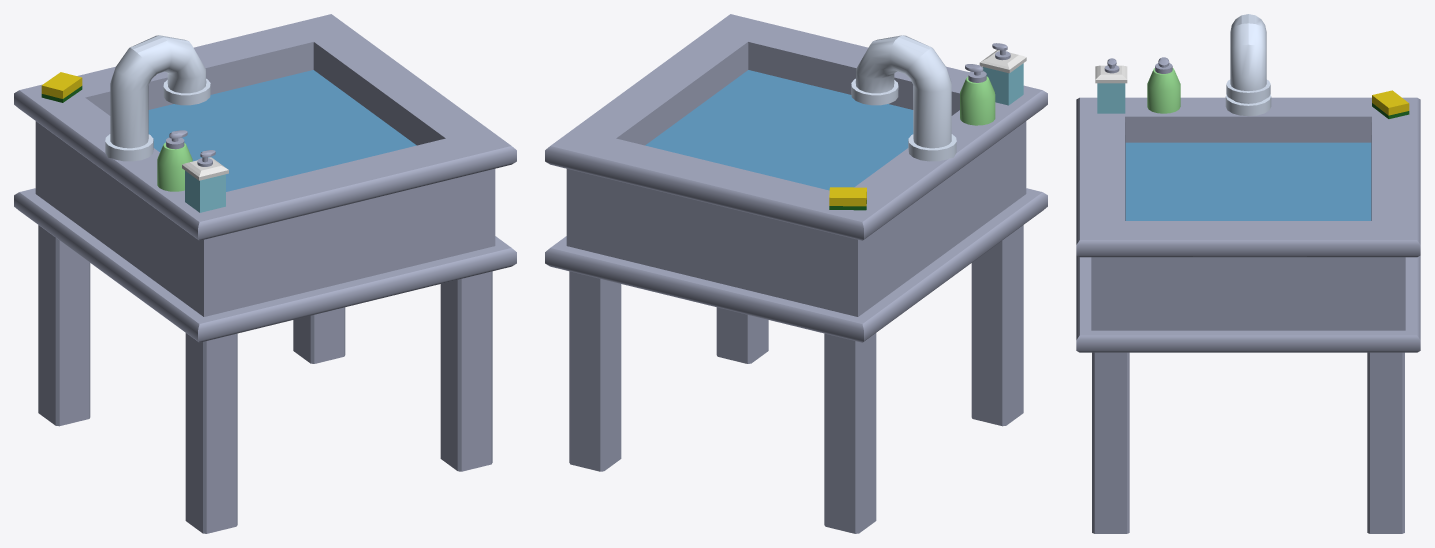
Rendered from sink.fbx.
3 renders of one model, left to right at view 1: azimuth 30°, elevation 25°; view 2: azimuth 150°, elevation 25°; view 3: azimuth 270°, elevation 25°, orthographic. The views are drawn at different scales.
Parts seen in each view (by area): view 1: Sink; view 2: Sink; view 3: Sink.
Part boxes in pixels (x1,y1,x2,y2): Sink: (14, 14, 516, 533); Sink: (545, 14, 1047, 533); Sink: (1076, 14, 1420, 533).
Bounding box in the file's own units: 550 × 702 × 550.
